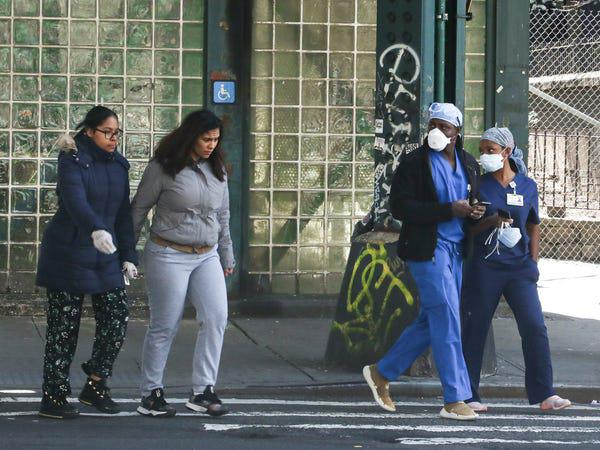Person: (143, 118, 245, 420), (47, 104, 136, 407), (395, 98, 472, 409), (472, 129, 559, 400)
